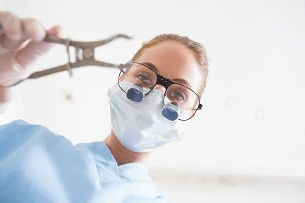Mask: (104, 57, 201, 154)
